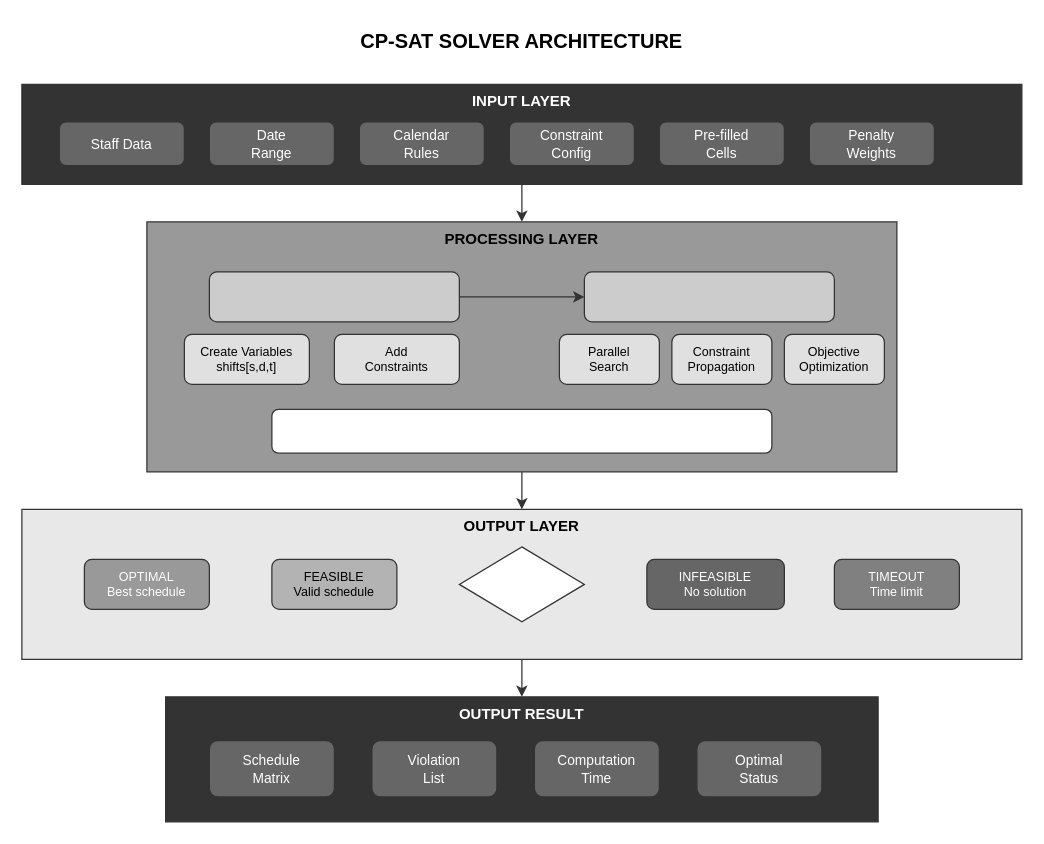
This 1044x844 diagram has some shape labels left out. The shapes that lost their labels are listed below. From the top down, each one's centre as x and y in pixels, then its label:
At pixel 333 296: "Model Builder".
At pixel 708 296: "CP-SAT Solver Core".
At pixel 521 430: "Objective Function: Minimize Σ(weight × violation)".
At pixel 521 584: "Status?".
